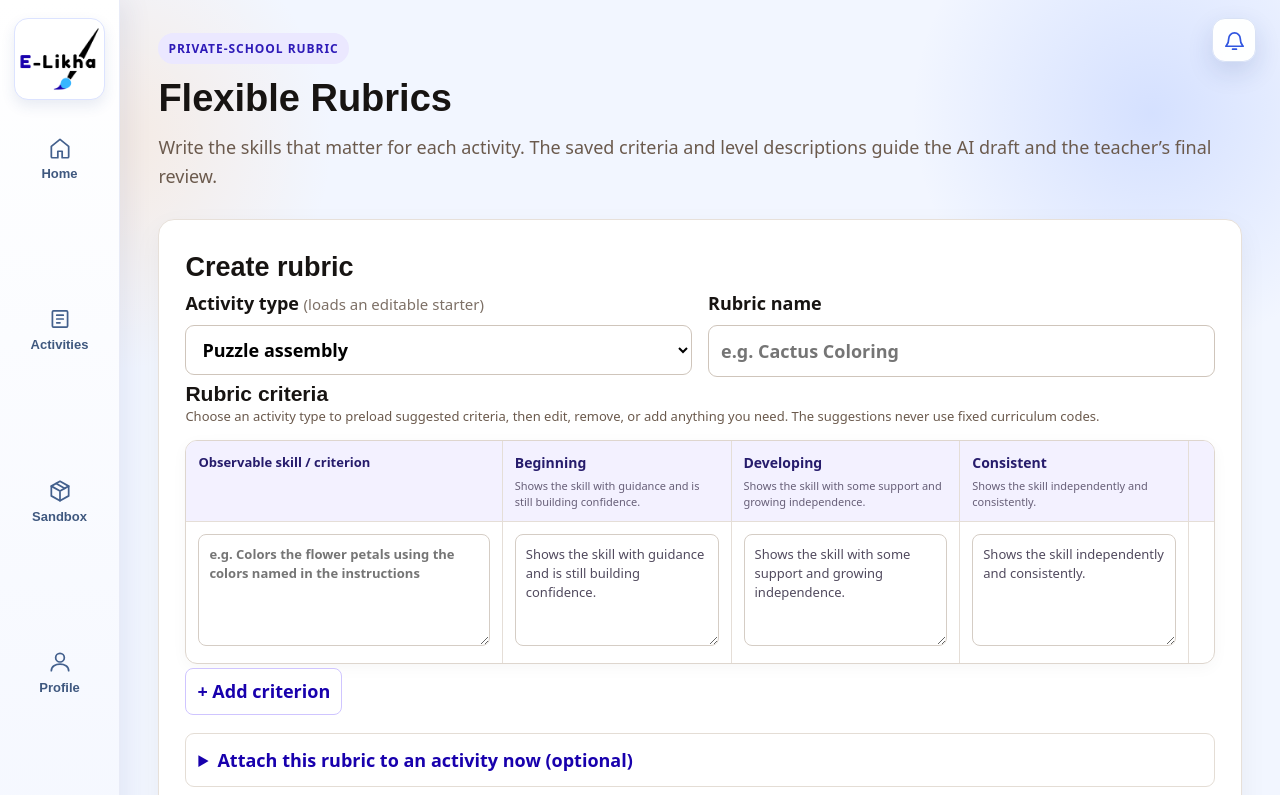
Test: private-school rubric builder › preloads editable criteria for the selected activity type
Step 1. Select "Puzzle assembly" in the dropdown labelled "Activity type (loads an editable starter)" → (439, 350), box [185,325,692,375]
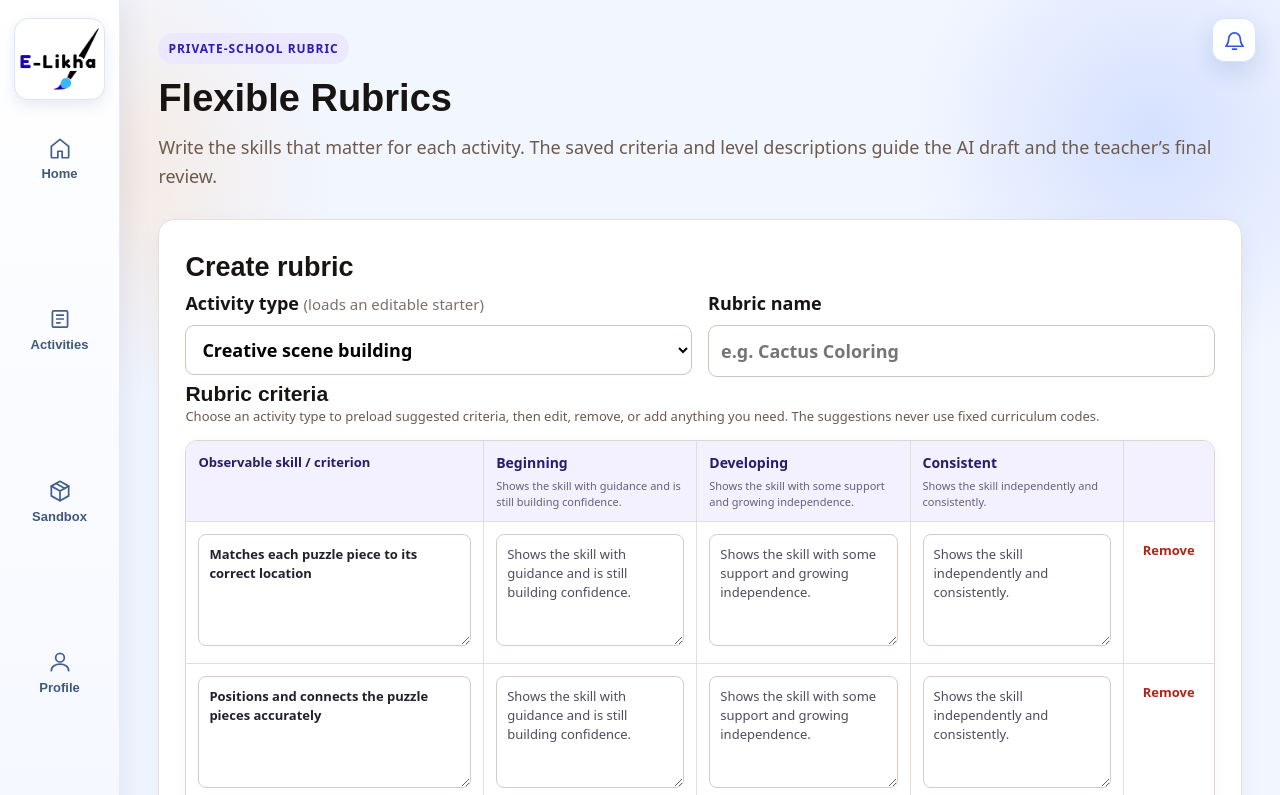
Step 2. Select "Creative scene building" in the dropdown labelled "Activity type (loads an editable starter)" → (439, 350), box [185,325,692,375]
(page scrolled)
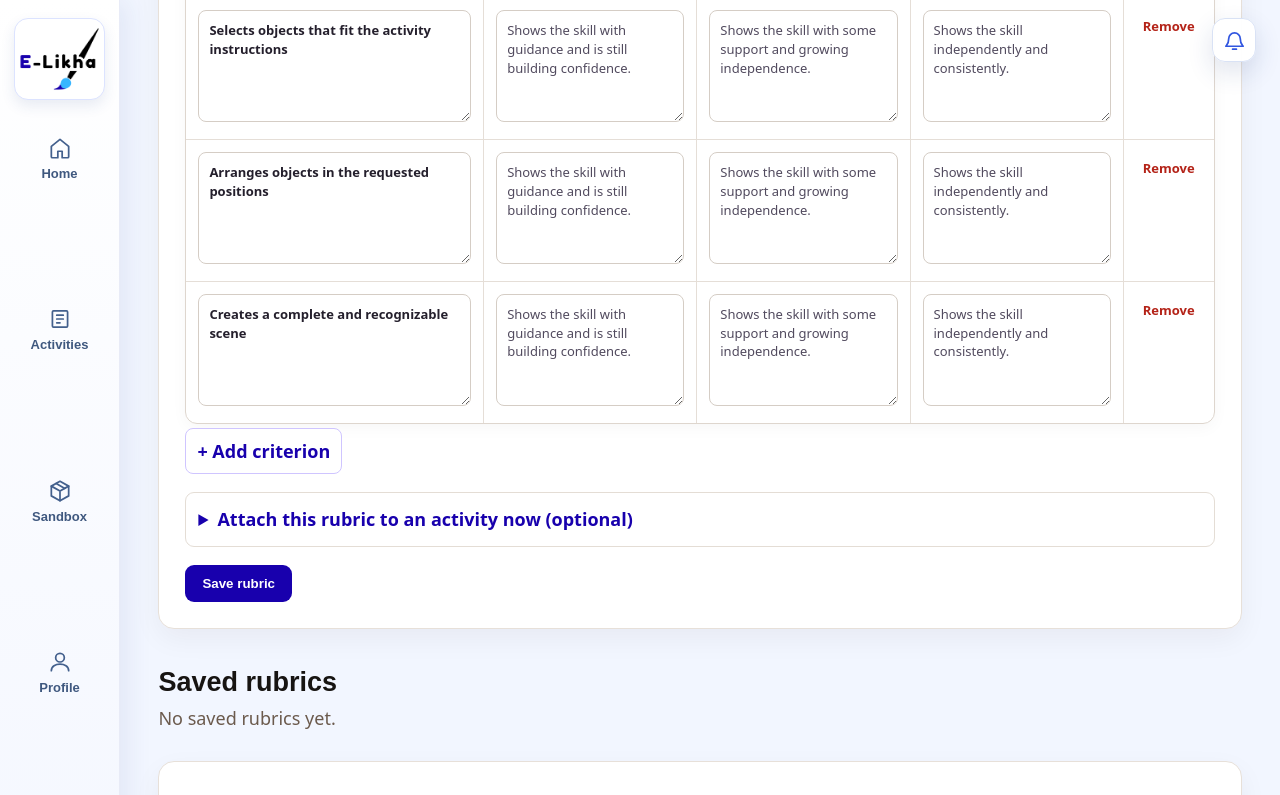
Expected: the text box with class "criterion-input" holds "Selects objects that fit the activity instructions", [198,10,471,122]
Step 3. Click the button "+ Add criterion" → (264, 451), box [185,428,342,474]
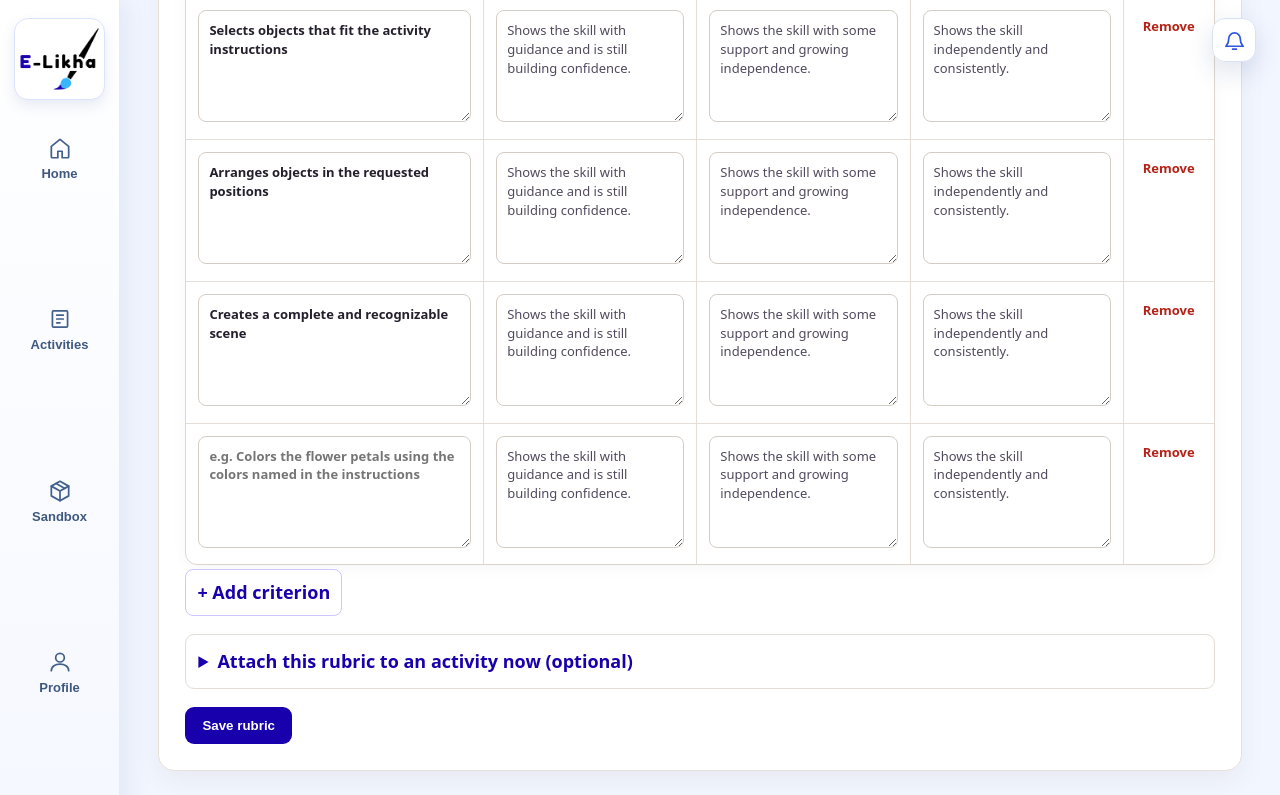
Expected: the number of text boxes with class "criterion-input" is 4, [198,10,471,122]; [198,152,471,264]; [198,294,471,406]; [198,436,471,548]
